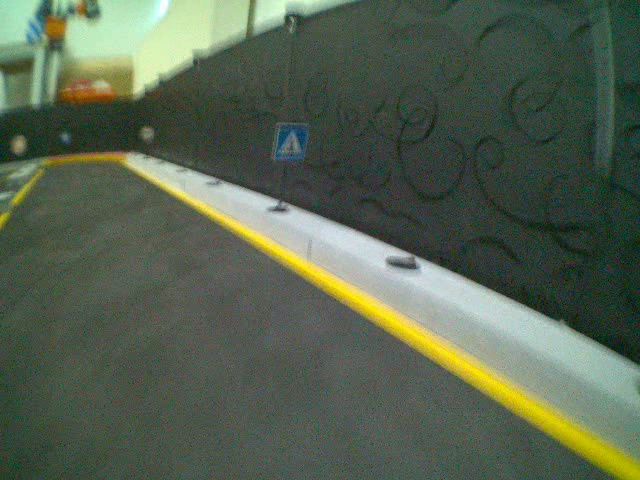crossing: (272, 121, 310, 161)
